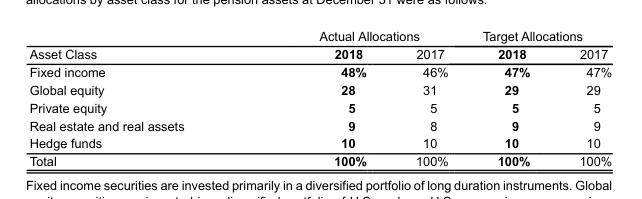table: (28, 28, 611, 167)
table column: (28, 28, 250, 167), (250, 28, 390, 167), (464, 28, 553, 167), (390, 28, 464, 167), (553, 28, 611, 167)
table column header: (28, 28, 611, 62)
table row: (28, 44, 611, 62), (28, 62, 611, 80), (28, 80, 611, 98), (28, 98, 611, 116), (28, 116, 611, 134), (28, 134, 611, 151), (28, 28, 611, 44), (28, 151, 611, 167)
table spanning cell: (28, 28, 250, 62), (250, 28, 464, 44), (464, 28, 611, 44)
